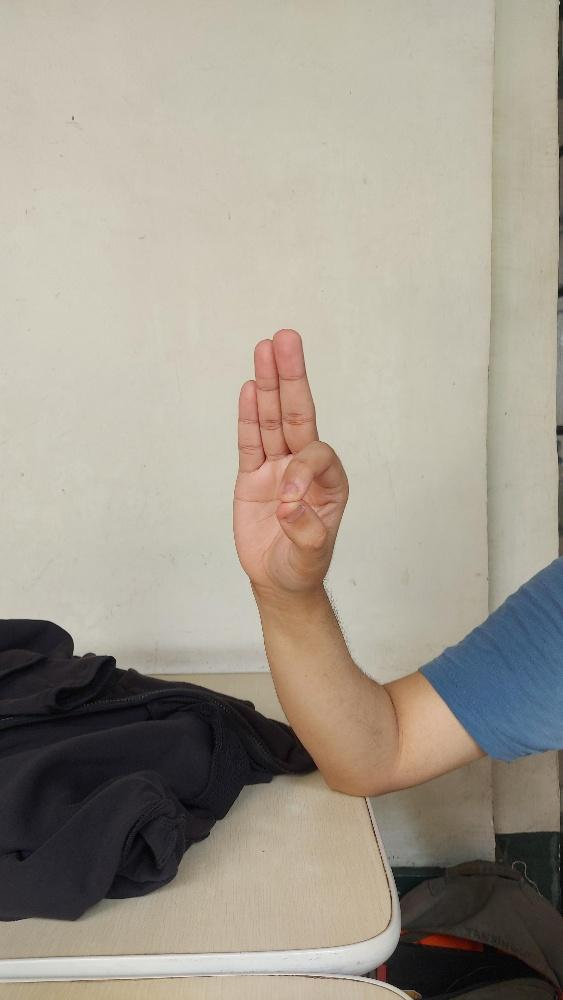f: (231, 327, 349, 593)
